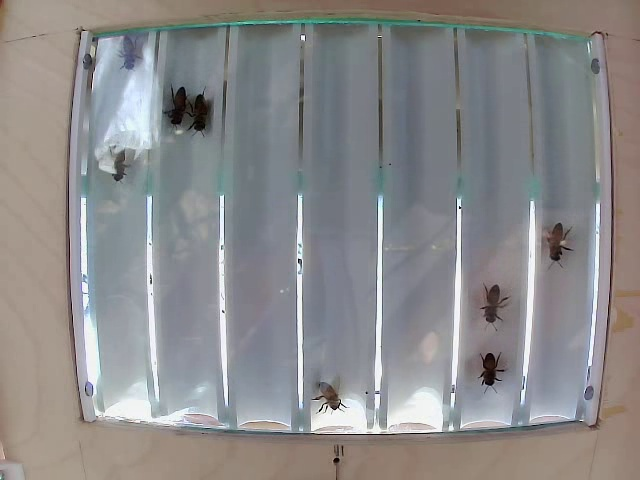bee: (311, 374, 356, 420), (96, 148, 134, 198), (480, 281, 511, 339), (163, 77, 198, 128), (481, 344, 519, 387), (540, 219, 566, 268), (198, 83, 222, 136), (112, 36, 150, 69)
